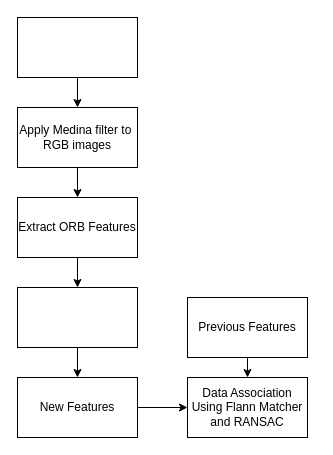
Some shapes in this 333 by 455 pixel diagram are drawn without their labels. Here are the shapes that lost their labels. From the top down, the centre of each, then its label:
[77,47]: Grab RGB and Depth Images
[77,317]: Remove feature points with No Depth
